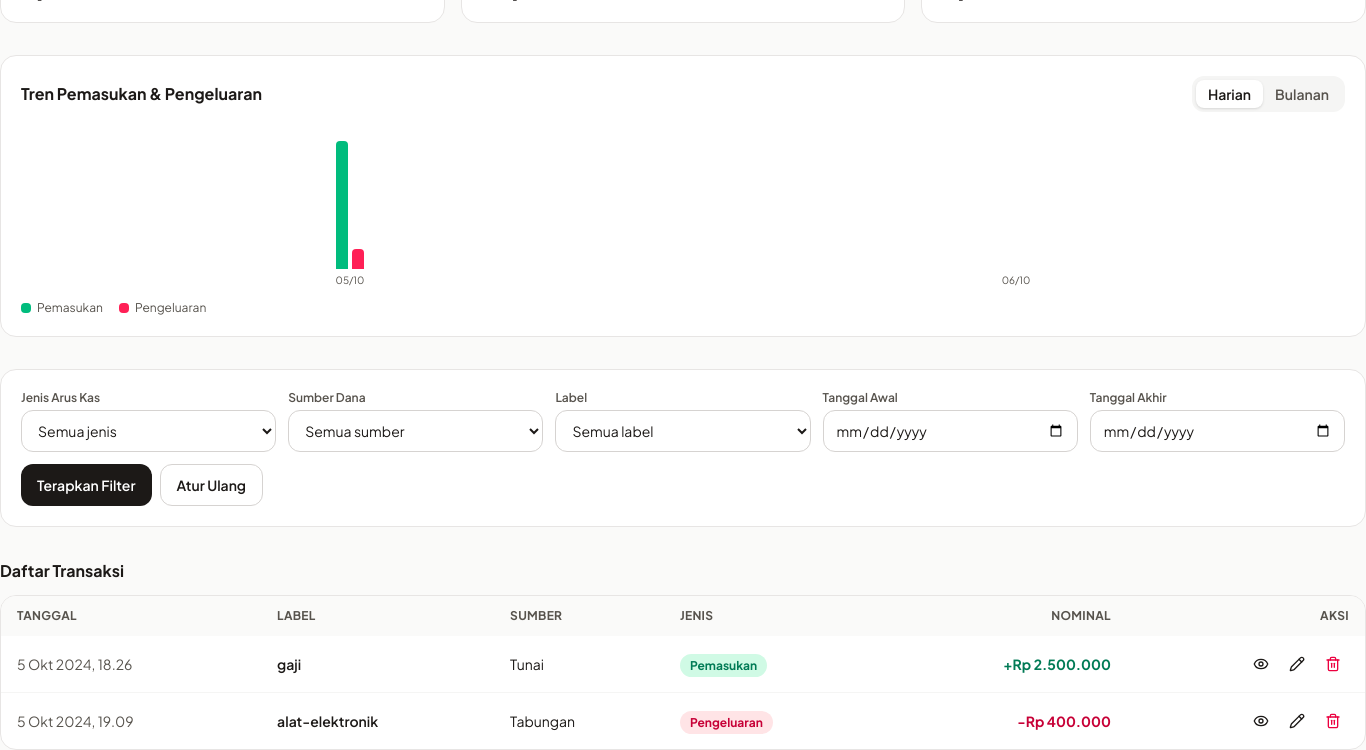
Test: HomePage › mengubah transaksi
The width and height of the screenshot is (1366, 750).
(page scrolled)
Click the button named "Ubah transaksi 2" at {"x": 1297, "y": 664}, box [1281,648,1313,680]
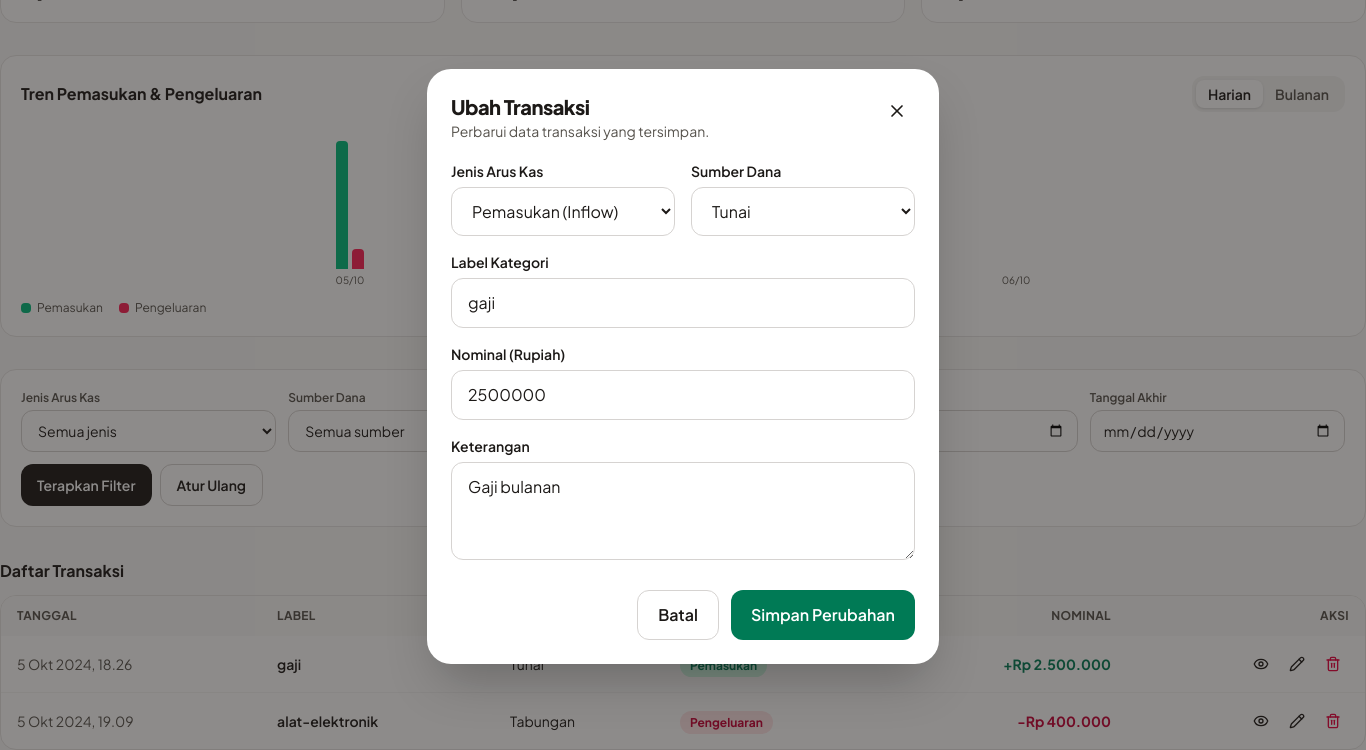
Result: the heading "Ubah Transaksi" is shown at [451,94,590,118]
Result: the field labelled "Label Kategori" holds "gaji" at [451,278,915,328]
Replace the text in the text box labelled "Keterangan" with "Gaji revisi" at {"x": 683, "y": 510}, box [451,462,915,560]
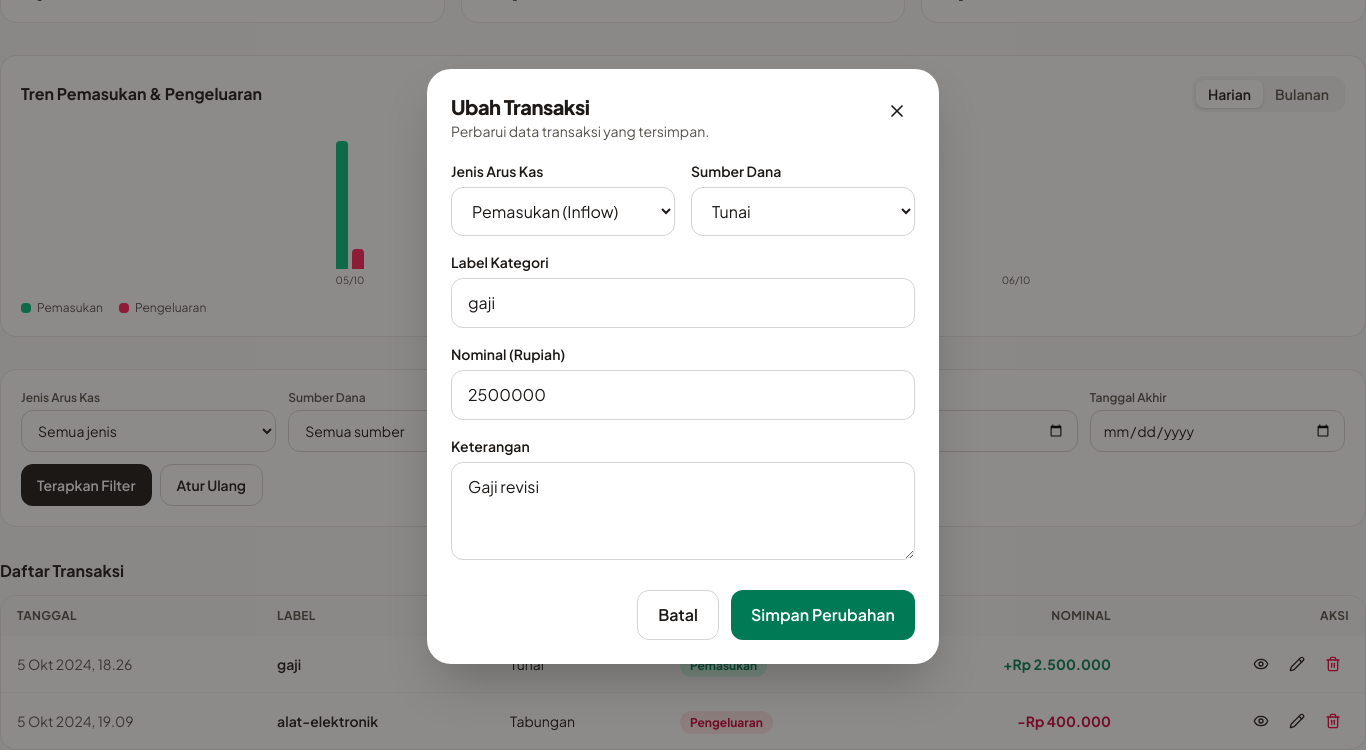
Click the button "Simpan Perubahan" at {"x": 823, "y": 614}, box [731,590,915,640]
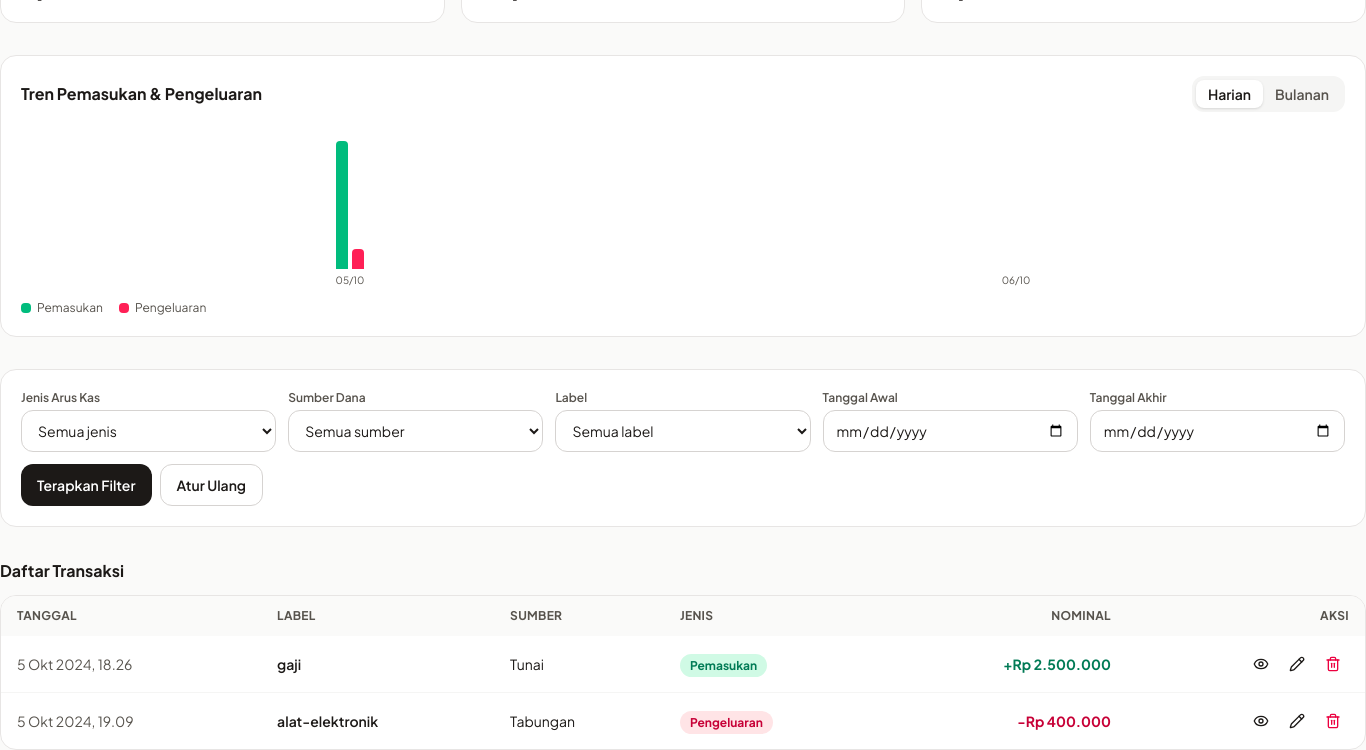
Result: the dialog is gone
